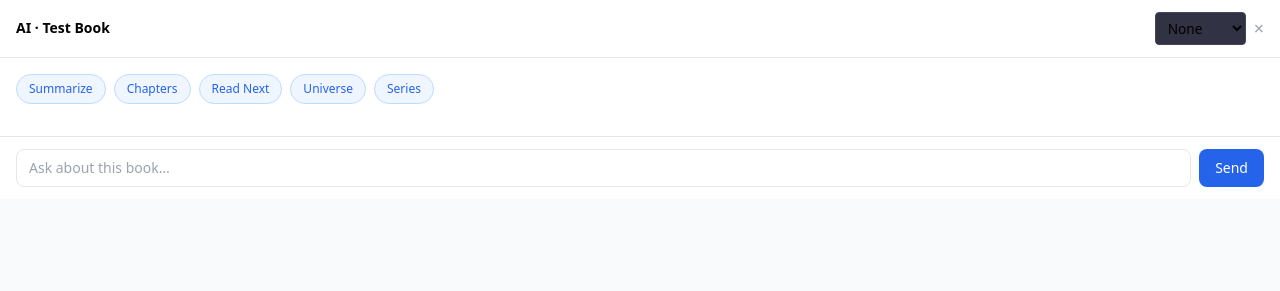
AIChatPanel › sends a message and shows response
Type "What is this book about?" into the field with placeholder "Ask about this book…" at [604, 168], box [16,149,1191,187]
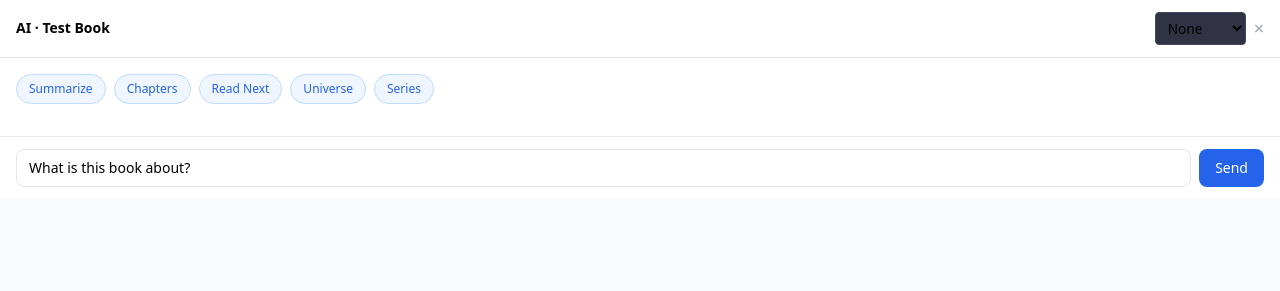
Click the button with test id "send-message-btn" at [1232, 168], box [1199,149,1264,187]
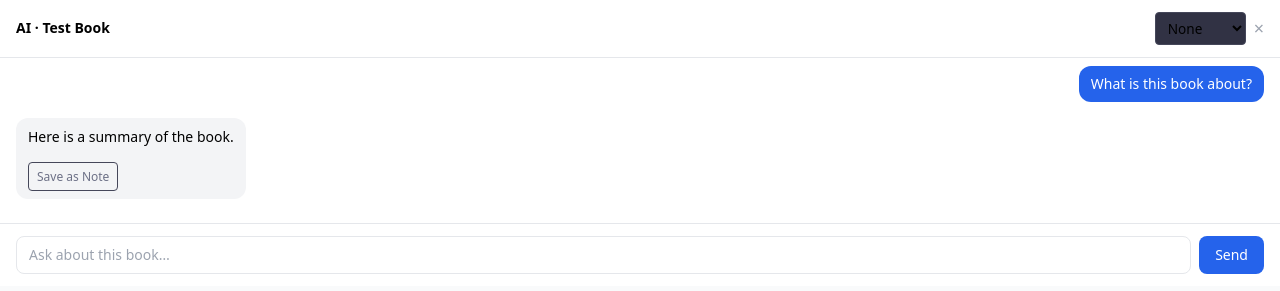
Expected: the text "Here is a summary of the book." is shown, [28,126,234,148]
